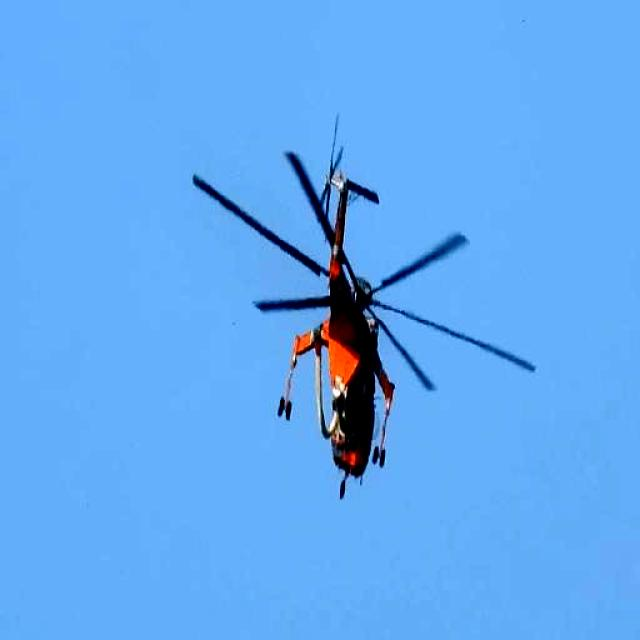drone: (192, 122, 546, 476)
